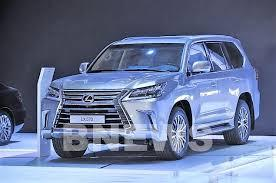lexus: (81, 92, 95, 104)
